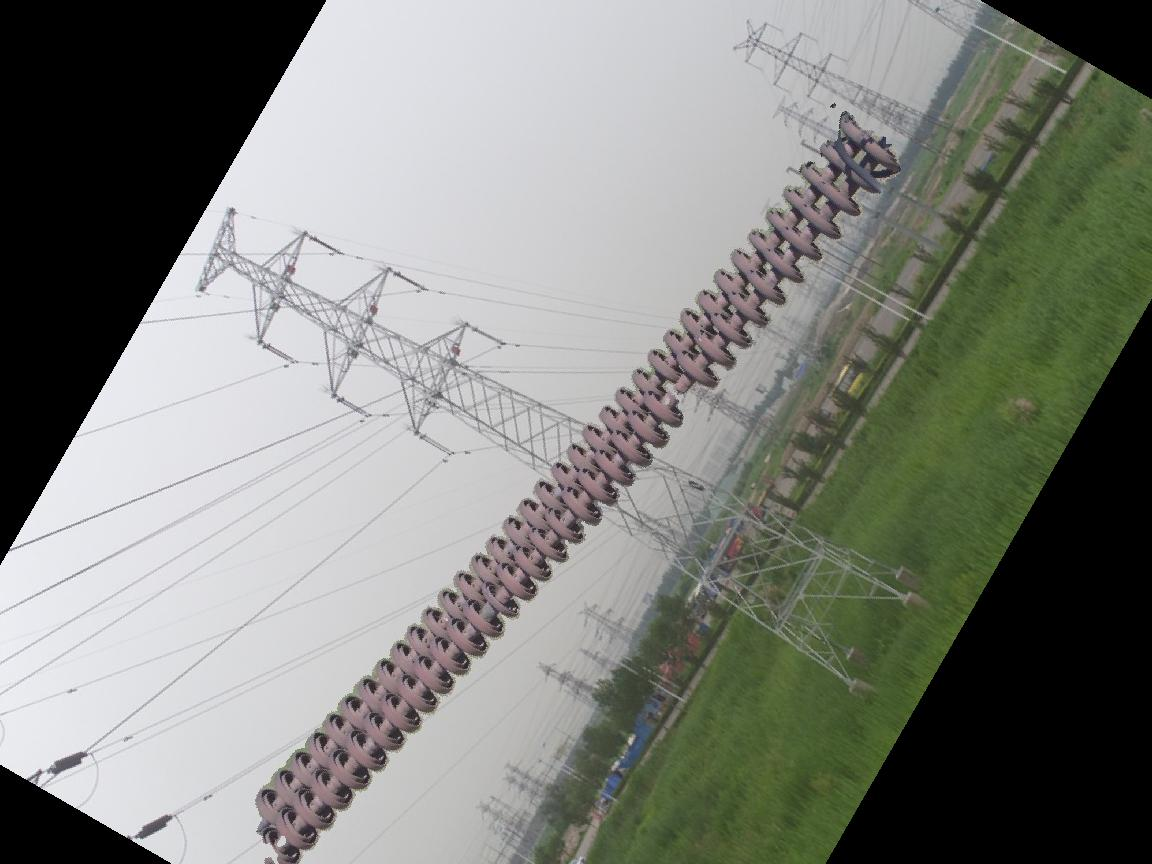insulator: (250, 111, 901, 857)
insulator_stringdrop: (640, 348, 719, 428)
